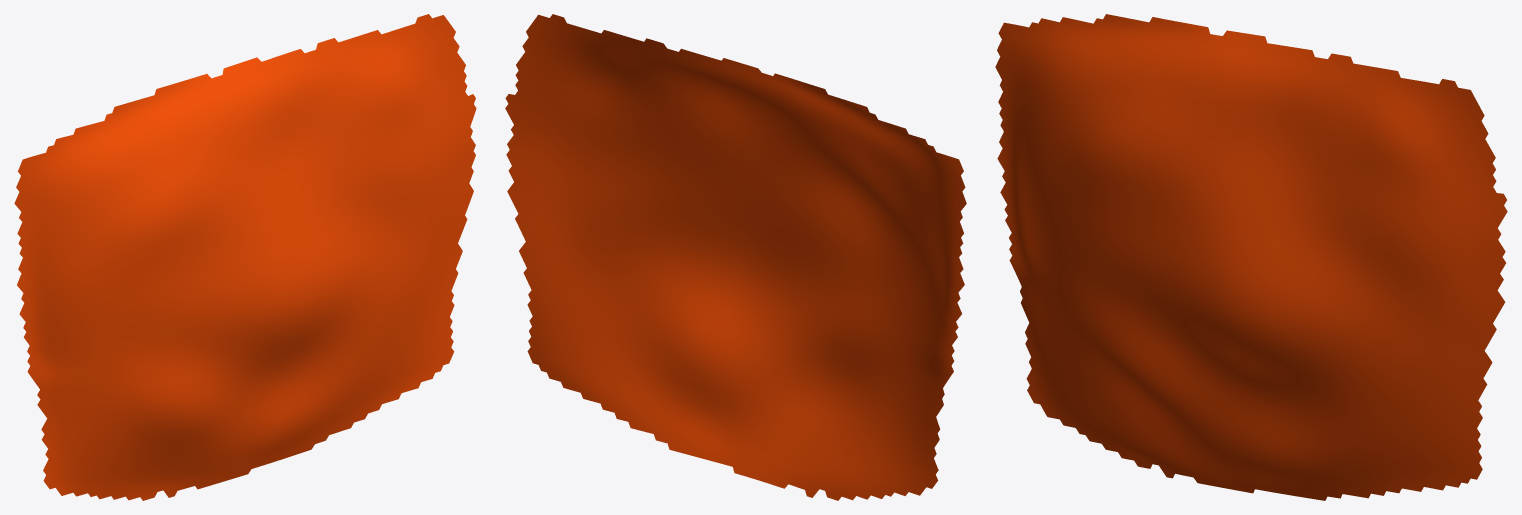
The model's file is SM_GPUI_seederground_90.fbx.
3 renders of one model, left to right at view 1: azimuth 30°, elevation 25°; view 2: azimuth 150°, elevation 25°; view 3: azimuth 330°, elevation 25°, orthographic. The views are drawn at different scales.
Visible parts, largest first — view 1: SM_GPUI_seederground_90; view 2: SM_GPUI_seederground_90; view 3: SM_GPUI_seederground_90.
Part boxes in pixels (box(x1,y1,x2,y2)): SM_GPUI_seederground_90: box(14, 14, 476, 500); SM_GPUI_seederground_90: box(505, 14, 966, 500); SM_GPUI_seederground_90: box(995, 14, 1507, 500).
Bounding box in the file's own units: 4595 × 3998 × 424.
Materials: 1 (1 with a texture image).
